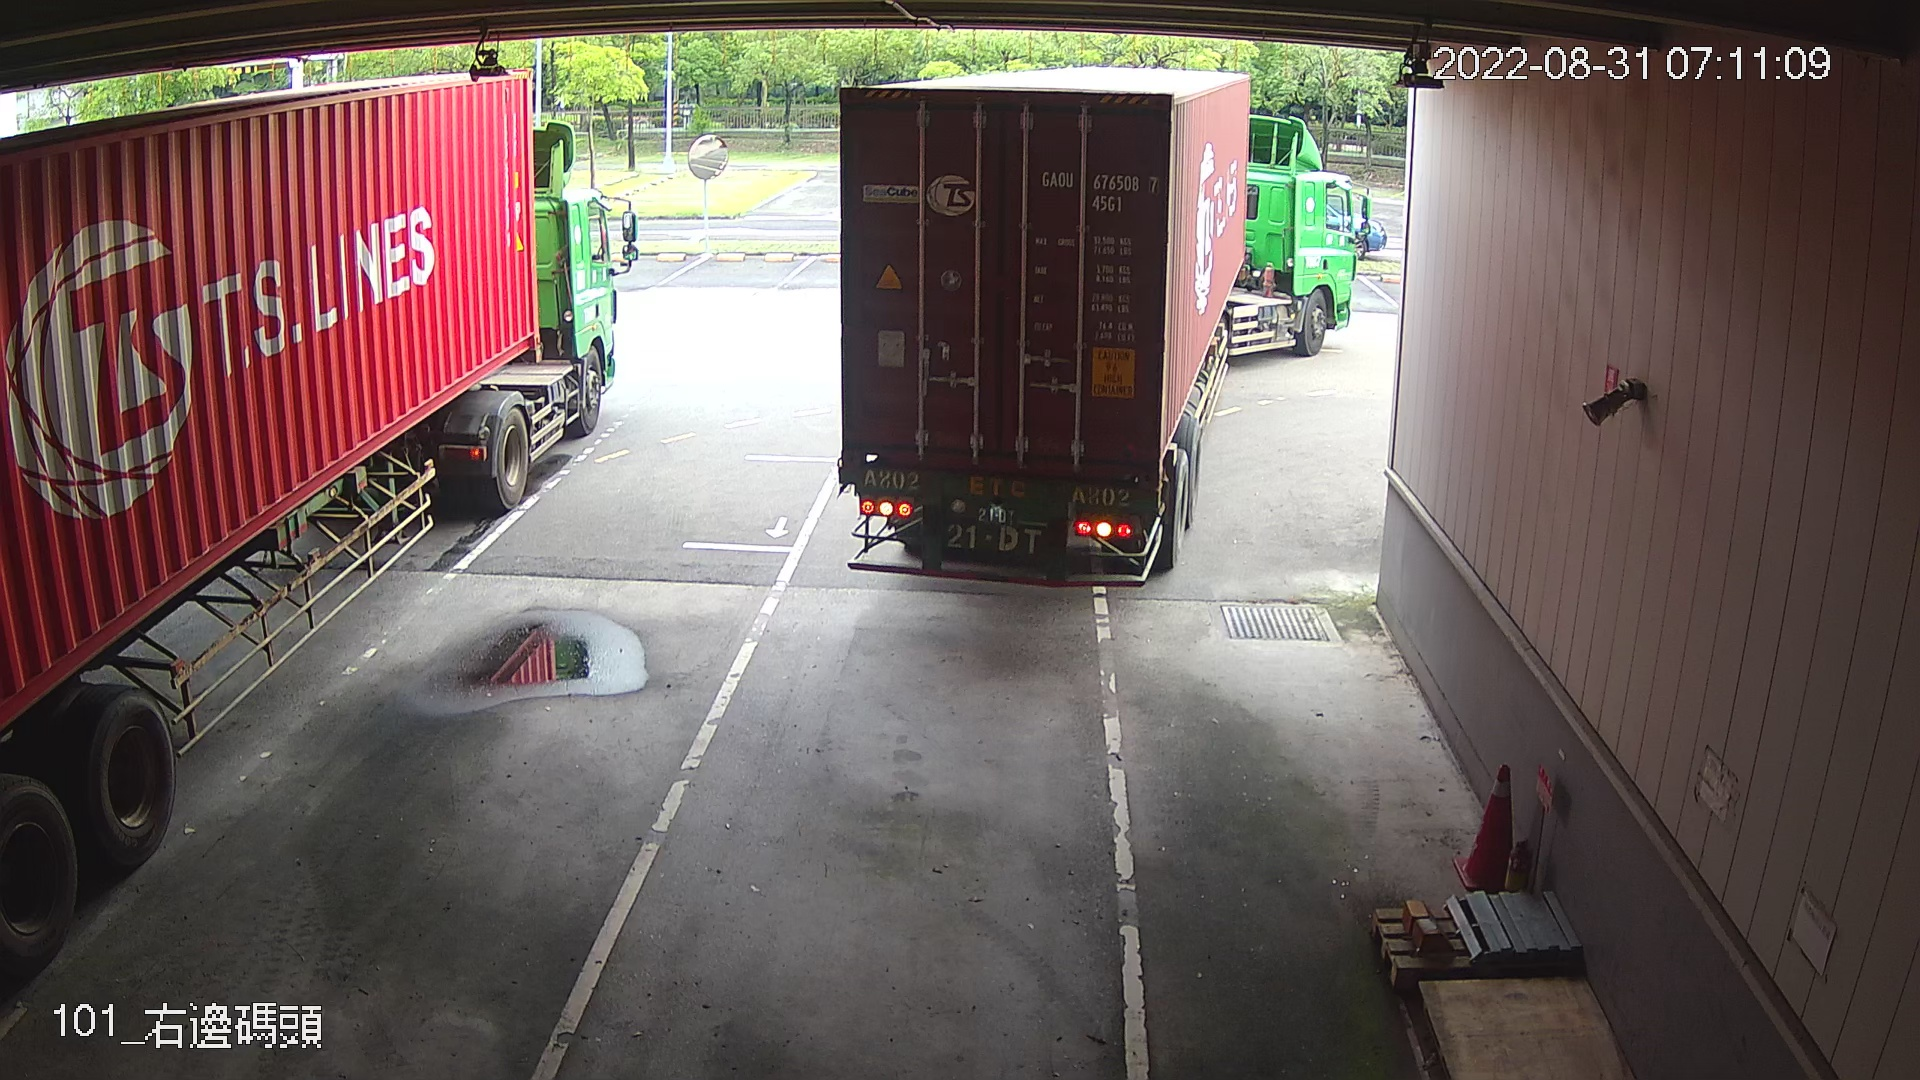container: (1033, 161, 1166, 218)
